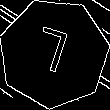L_S: (31, 24, 77, 82)
